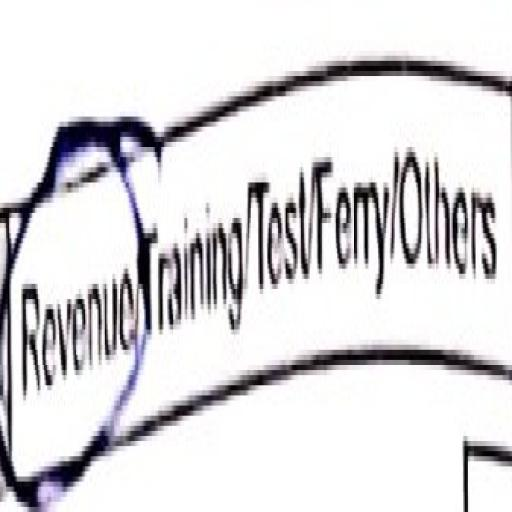check: (1, 54, 148, 512)
